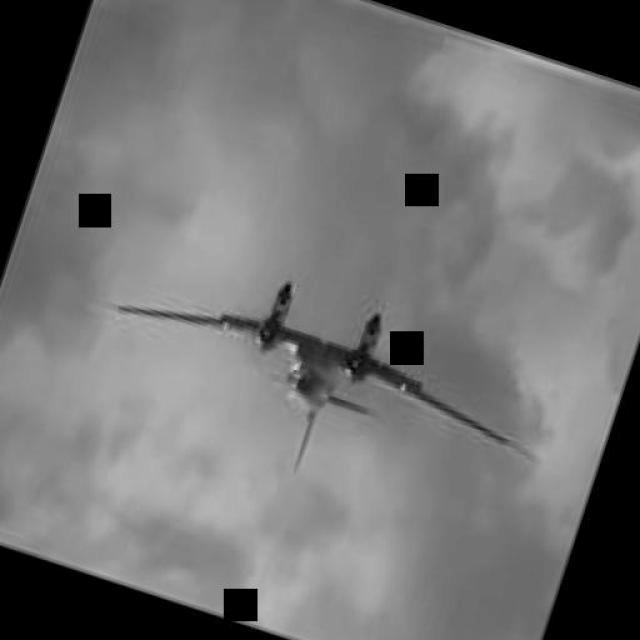aeroplane: (121, 274, 511, 458)
